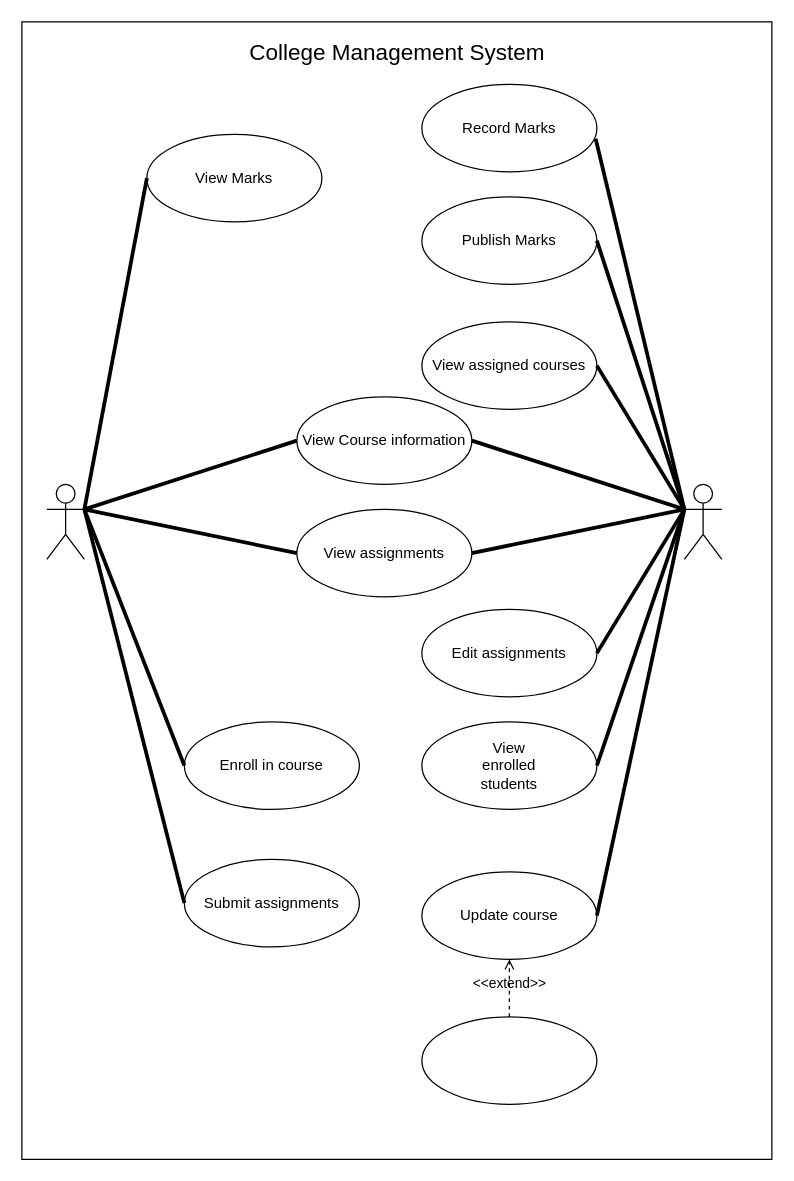
This 794x1181 diagram has some shape labels left out. The centre of each missing label's shape, as x and y in pixels:
"Lecturer" goes at point 702,521.
"Student" goes at point 65,521.
"Update lecture information" goes at point 509,1060.
